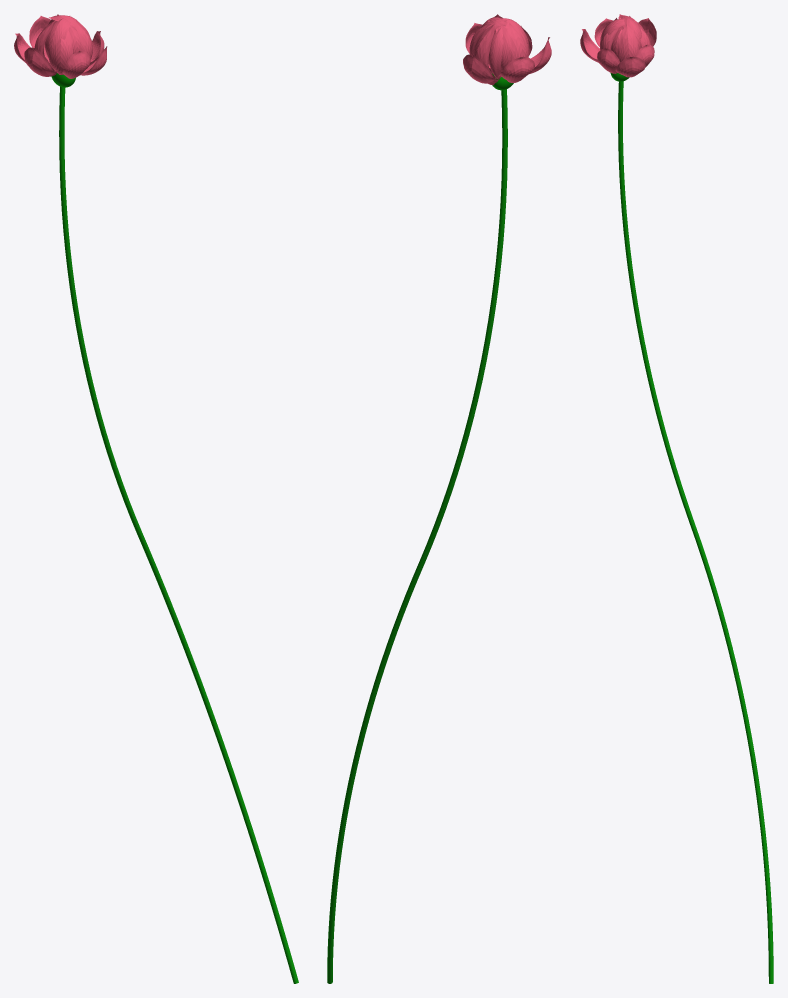
The model's file is Lotus040.fbx.
The picture shows the model from 3 angles, left to right: view 1: azimuth 30°, elevation 25°; view 2: azimuth 150°, elevation 25°; view 3: azimuth 330°, elevation 25°; orthographic projection. The views are drawn at different scales.
Visible parts, largest first — view 1: pCylinder5, nurbsToPoly16; view 2: pCylinder5, nurbsToPoly10, nurbsToPoly12, nurbsToPoly14, nurbsToPoly23, nurbsToPoly17; view 3: pCylinder5, nurbsToPoly13, nurbsToPoly24.
Boxes of the visible parts, x1,y1,x2,y2 form: pCylinder5: [59, 86, 298, 983]; nurbsToPoly16: [48, 30, 72, 74]; pCylinder5: [327, 89, 507, 983]; nurbsToPoly10: [463, 54, 500, 83]; nurbsToPoly12: [500, 57, 534, 82]; nurbsToPoly14: [508, 23, 528, 62]; nurbsToPoly23: [488, 28, 503, 79]; nurbsToPoly17: [473, 23, 499, 85]; pCylinder5: [618, 81, 773, 983]; nurbsToPoly13: [617, 24, 638, 62]; nurbsToPoly24: [615, 56, 645, 77].
Bounding box in the file's own units: 51.44 × 202 × 22.94.
